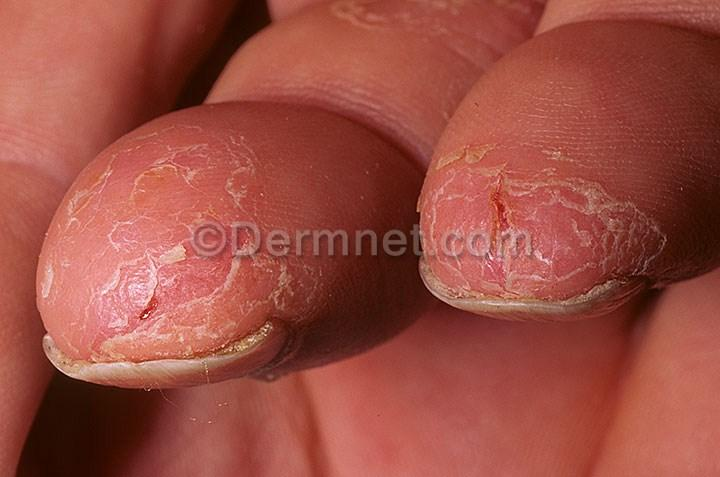Eczema: (143, 233, 240, 295), (541, 140, 605, 226), (194, 177, 264, 254), (110, 297, 193, 359), (245, 224, 317, 295), (226, 128, 289, 208), (451, 183, 518, 253), (163, 127, 240, 186), (131, 177, 209, 235), (213, 241, 269, 321), (604, 192, 665, 263), (76, 169, 144, 232), (478, 146, 554, 202), (58, 201, 114, 275), (139, 233, 216, 286), (519, 198, 571, 271), (181, 287, 240, 349), (114, 133, 176, 191), (74, 296, 141, 349), (419, 187, 466, 262), (309, 263, 358, 329), (37, 245, 79, 319), (332, 3, 403, 42), (432, 145, 496, 188), (400, 4, 456, 51), (438, 258, 507, 293), (554, 261, 601, 308), (499, 262, 554, 302), (56, 319, 101, 361), (594, 242, 637, 280), (572, 223, 607, 267), (679, 0, 720, 36), (268, 292, 303, 331), (458, 0, 494, 34), (646, 255, 709, 274), (507, 0, 537, 24), (427, 264, 448, 290)
